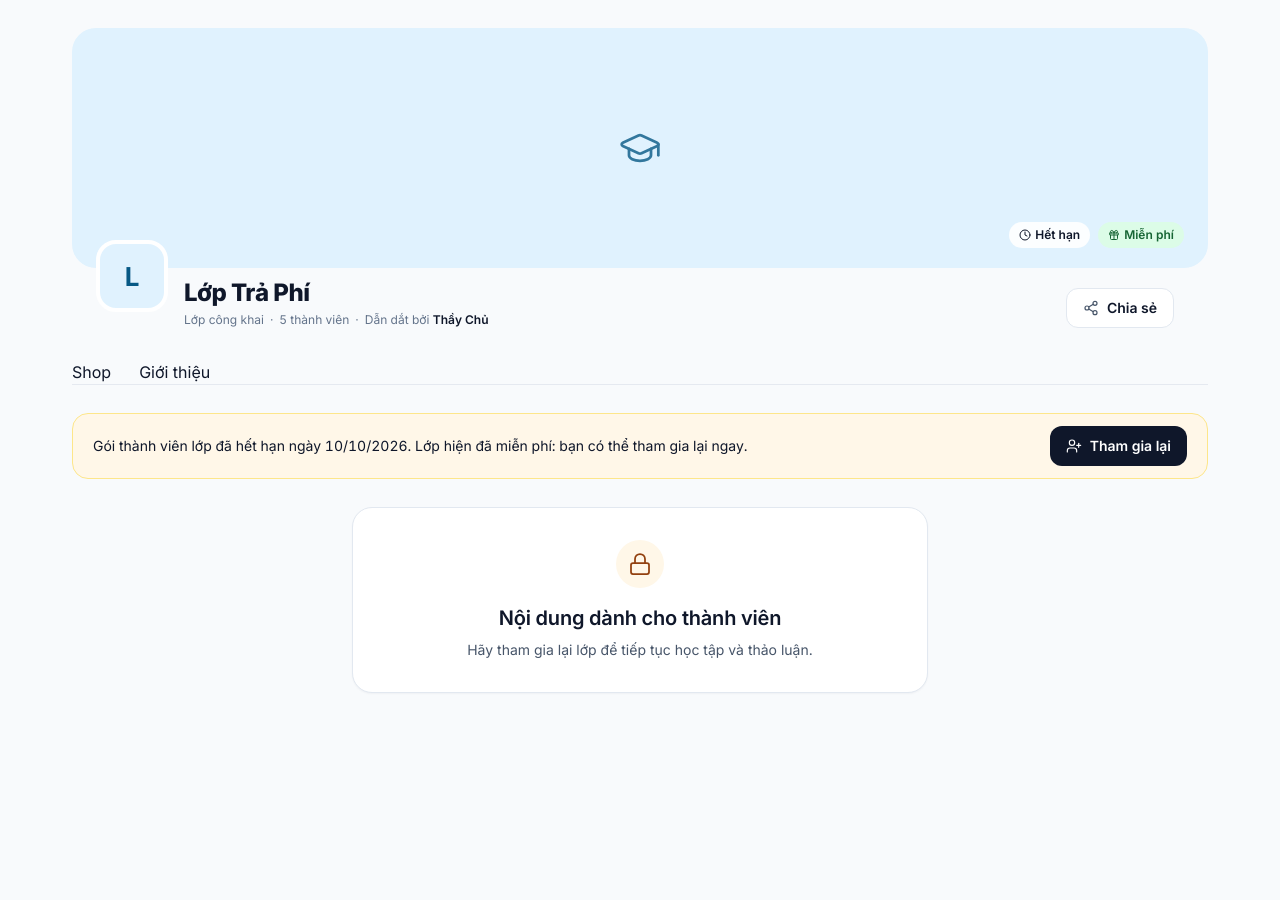
ClassroomLayout - lapsed (EXPIRED) member › a lapsed member of a class that has since become FREE is offered "Tham gia lại", not a purchase
Click the button "Tham gia lại" at (1118, 446), box [1050,426,1187,466]
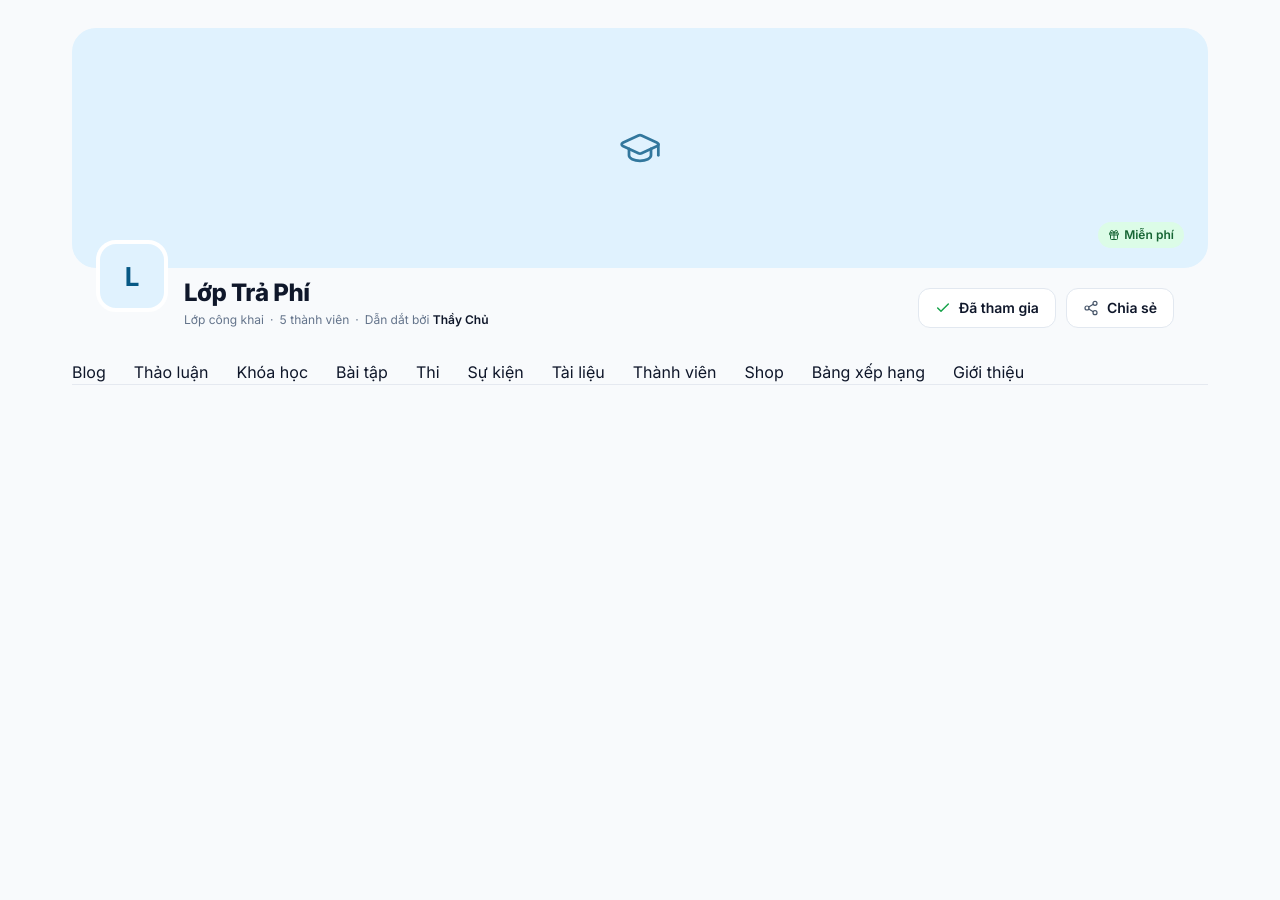
Expected: the text "Tham gia lại" is gone
